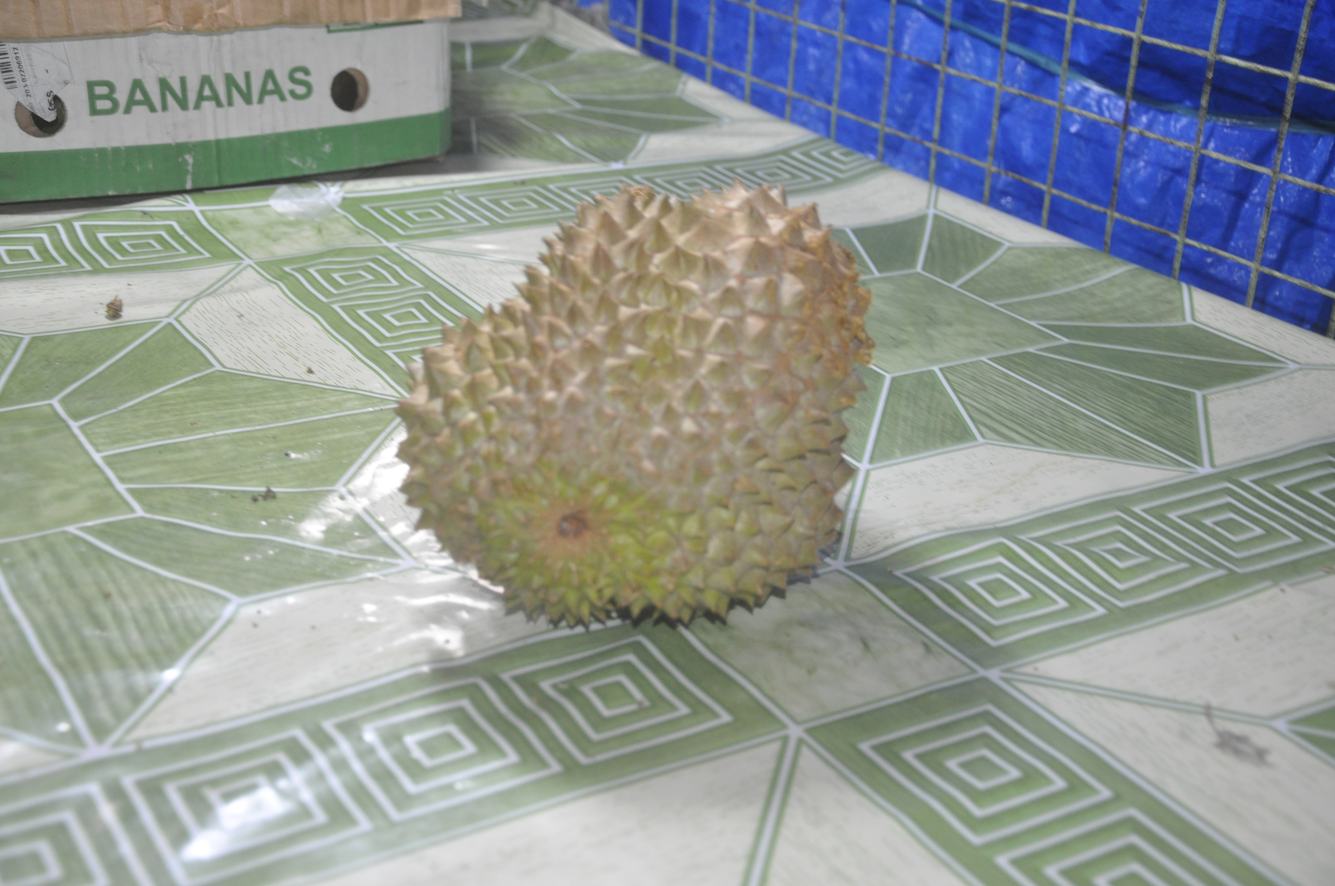mature: (399, 182, 881, 635)
